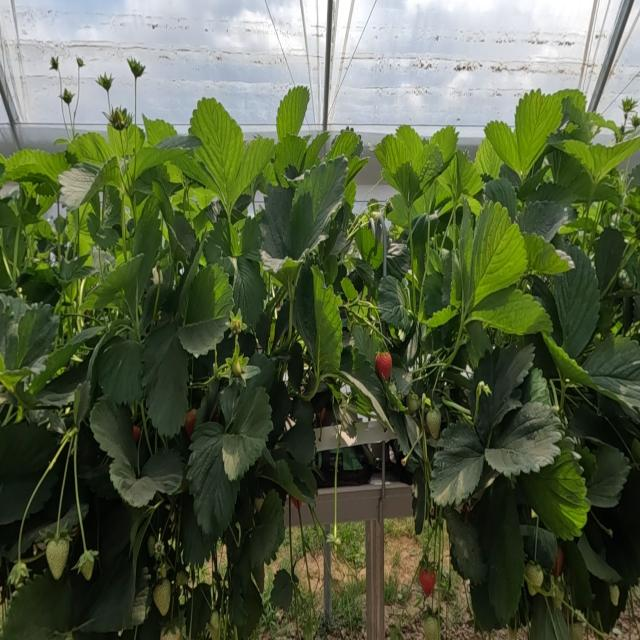Flowers: (127, 58, 145, 80), (95, 73, 111, 91), (154, 536, 164, 559)
Leaves: (473, 479, 523, 624), (463, 201, 527, 313), (520, 442, 589, 540), (188, 423, 239, 551), (1, 422, 60, 523), (290, 157, 347, 258), (470, 345, 534, 434), (486, 402, 562, 476), (583, 335, 639, 432), (293, 265, 342, 375), (552, 245, 599, 357), (143, 318, 187, 436), (192, 98, 243, 199), (178, 264, 233, 355), (2, 570, 71, 639), (30, 328, 101, 393), (79, 551, 135, 632), (223, 386, 271, 480), (601, 471, 640, 585), (430, 423, 483, 506), (515, 89, 564, 176), (125, 217, 162, 319), (471, 288, 551, 334), (90, 398, 137, 471), (10, 303, 59, 369), (344, 354, 387, 428), (444, 507, 484, 583), (96, 341, 143, 404), (542, 332, 594, 386), (93, 255, 144, 309), (585, 445, 629, 507), (249, 489, 283, 568), (568, 406, 625, 453), (277, 398, 315, 466), (234, 137, 274, 201), (109, 455, 158, 507), (4, 149, 67, 189), (231, 257, 266, 327), (37, 360, 88, 407), (561, 539, 593, 613), (261, 186, 293, 259), (180, 495, 212, 567), (260, 460, 316, 501), (99, 498, 131, 568), (593, 131, 639, 178), (452, 200, 473, 300), (409, 142, 445, 200), (374, 133, 406, 198), (578, 534, 620, 583), (520, 202, 571, 240), (485, 122, 521, 175), (141, 450, 184, 494), (173, 148, 217, 191), (204, 217, 235, 278), (595, 228, 625, 290), (81, 450, 118, 499), (530, 593, 569, 639), (59, 164, 98, 209), (565, 169, 616, 203), (377, 276, 409, 329), (277, 86, 308, 140), (520, 524, 557, 569), (67, 133, 114, 167), (484, 176, 517, 221), (450, 151, 482, 197), (557, 139, 597, 175), (396, 126, 424, 175), (548, 149, 585, 186), (269, 380, 290, 444), (108, 121, 144, 158), (412, 459, 429, 534), (186, 585, 210, 638), (325, 127, 362, 161), (275, 135, 306, 175), (527, 182, 574, 207), (523, 367, 552, 406), (152, 178, 174, 229), (474, 137, 502, 177), (429, 127, 458, 165), (423, 273, 448, 317), (517, 166, 549, 200), (196, 380, 219, 427), (352, 326, 377, 369), (356, 226, 381, 268), (247, 353, 275, 389), (174, 213, 196, 257), (270, 569, 293, 611), (467, 321, 491, 360), (303, 132, 328, 169), (405, 414, 424, 462), (142, 284, 161, 332), (238, 218, 260, 259), (144, 118, 176, 146), (387, 244, 411, 281), (260, 250, 298, 273), (74, 375, 90, 426), (60, 256, 90, 283), (219, 385, 240, 423), (324, 222, 346, 257), (288, 343, 304, 391), (387, 194, 408, 228), (156, 135, 199, 150), (345, 158, 368, 186), (391, 366, 412, 396), (217, 328, 234, 364), (275, 301, 289, 341), (256, 312, 270, 349), (341, 277, 357, 302), (344, 180, 356, 209), (162, 288, 169, 301)
Strawberries: (46, 538, 68, 579), (153, 581, 171, 615), (525, 562, 543, 595), (9, 560, 29, 588), (109, 107, 132, 130), (77, 551, 95, 579), (375, 352, 391, 379), (419, 569, 435, 595), (426, 409, 439, 438), (423, 616, 439, 639), (228, 311, 242, 335), (185, 410, 196, 436), (60, 88, 74, 107), (231, 357, 245, 375), (609, 585, 620, 605), (571, 623, 584, 639), (146, 535, 155, 557), (290, 497, 302, 510), (134, 425, 141, 443), (50, 56, 58, 70), (76, 57, 84, 68)
